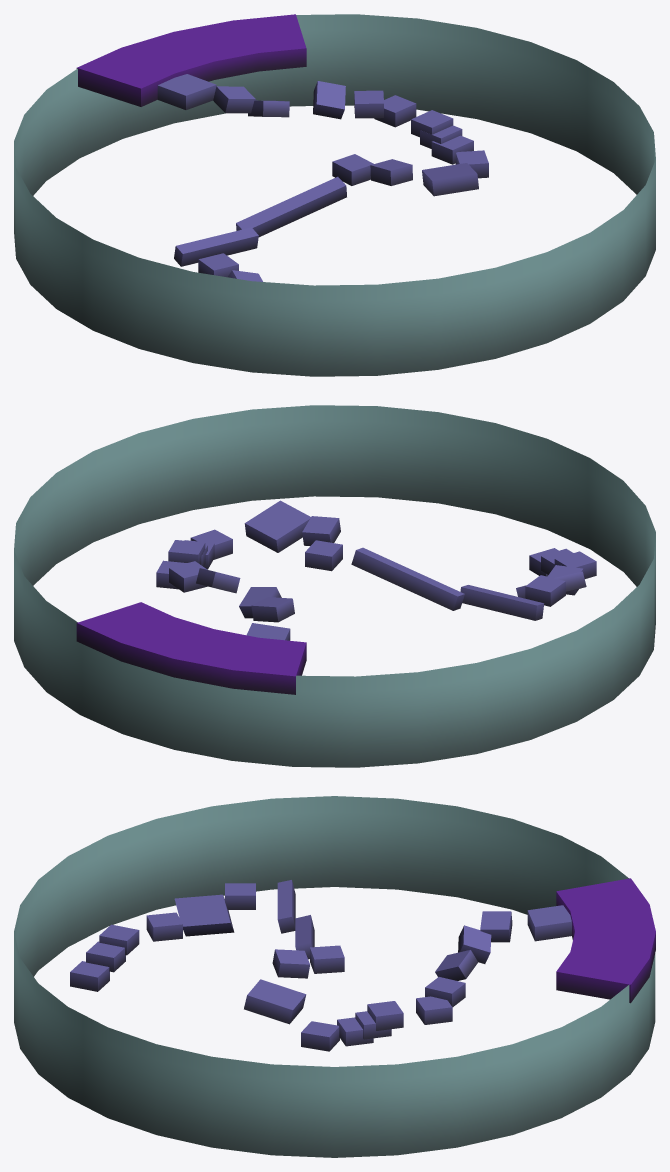
The model's file is Chunk07.glb.
The picture shows the model from 3 angles, top to bottom: view 1: azimuth 30°, elevation 25°; view 2: azimuth 150°, elevation 25°; view 3: azimuth 270°, elevation 25°; orthographic projection.
Visible parts, largest first — view 1: Chunk07; view 2: Chunk07; view 3: Chunk07.
Boxes of the visible parts, <box> form: Chunk07: <box>14,14,655,376</box>; Chunk07: <box>14,405,655,767</box>; Chunk07: <box>14,796,655,1157</box>.
Size of what is drawn, in the model's own units: 69.14 by 12.35 by 69.22.
Materials: 1 (1 with a texture image).
